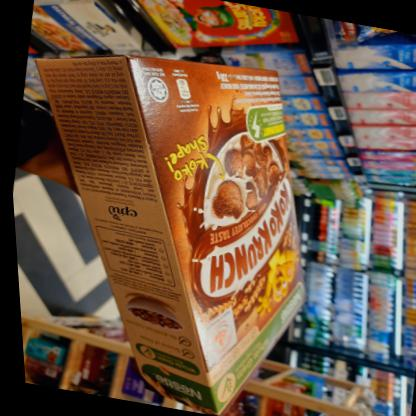i: (0, 8, 361, 415)
